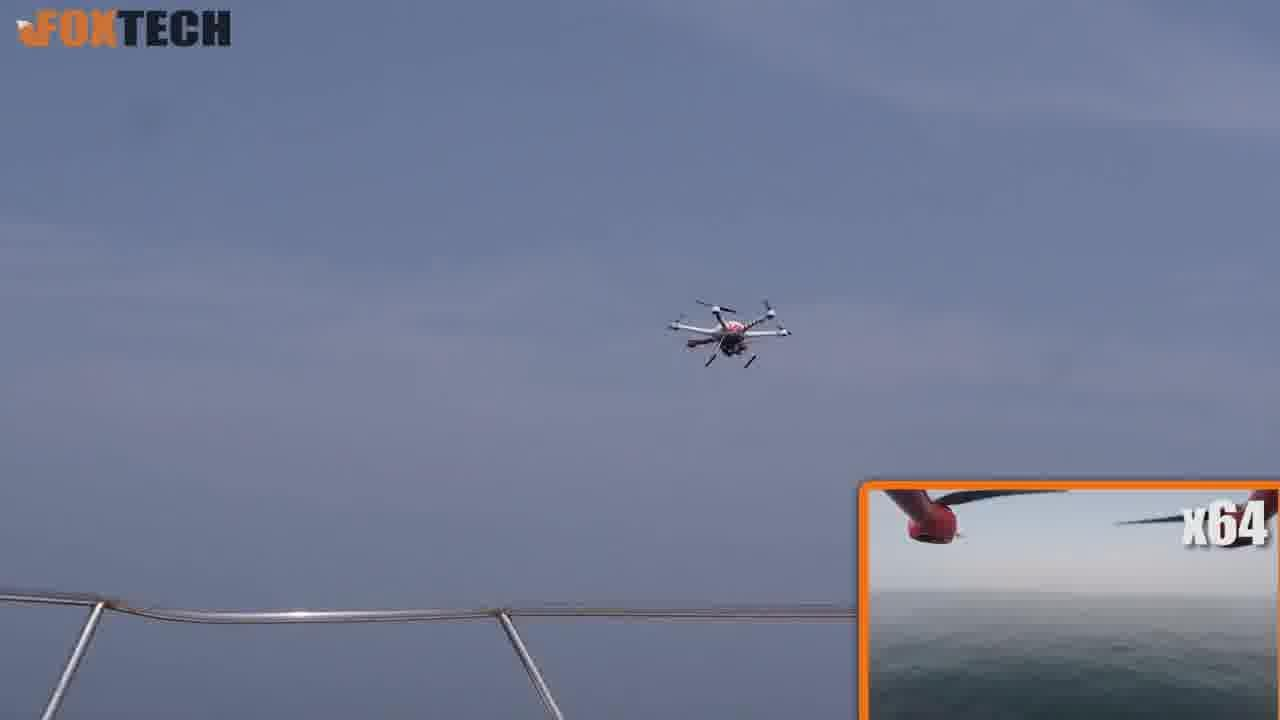drone: (652, 282, 809, 379)
